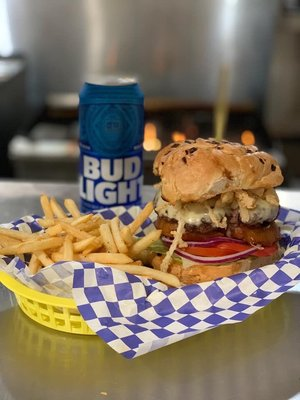soup: (124, 137, 286, 285)
